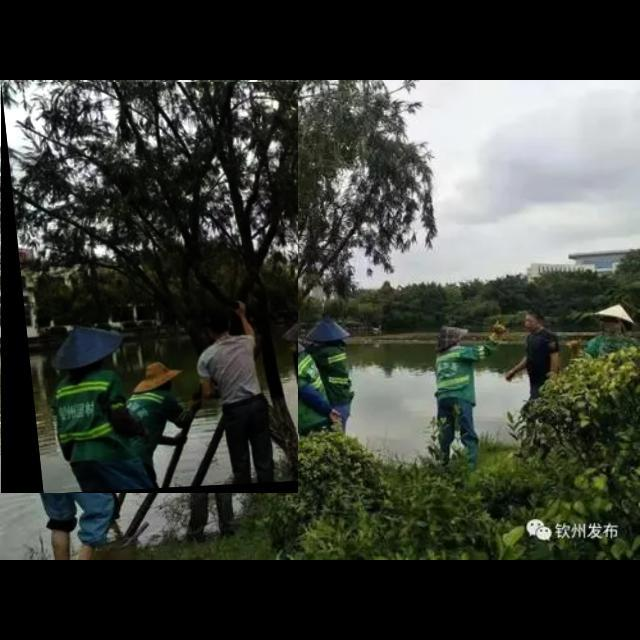fallen_tree: (1, 82, 299, 494)
